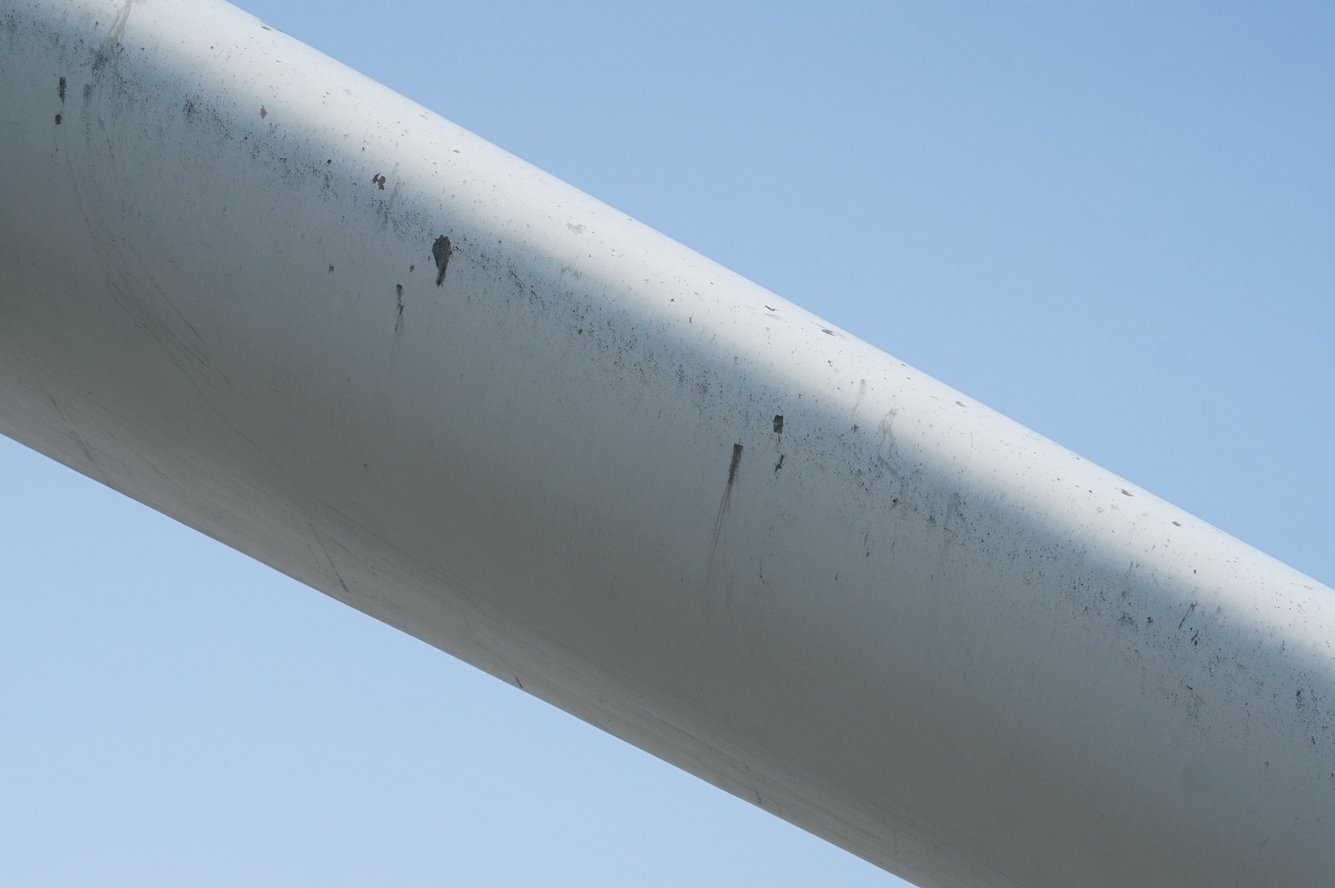Dirt: (428, 230, 464, 295)
